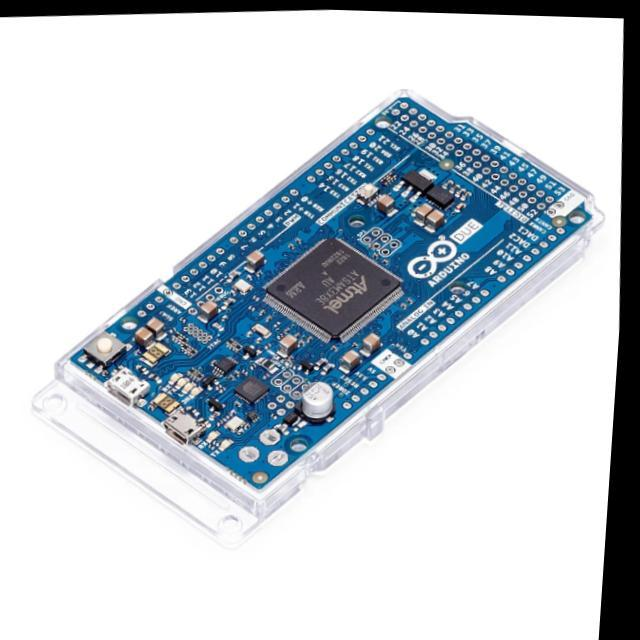Arduino-Due: (72, 96, 590, 489)
